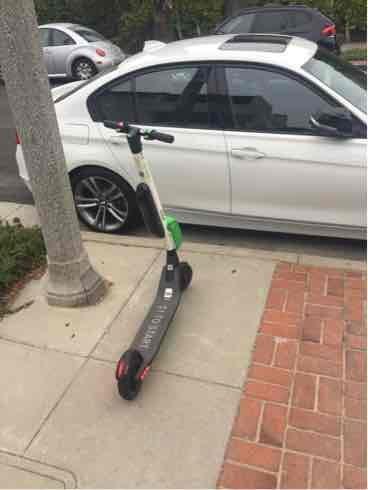scooter: (98, 107, 199, 417)
